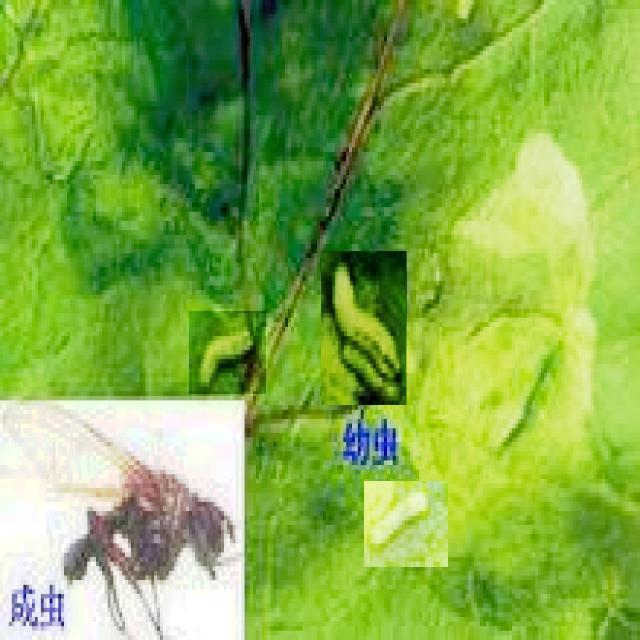whorl-maggot: (322, 251, 408, 405), (364, 481, 448, 567), (189, 311, 266, 394)
